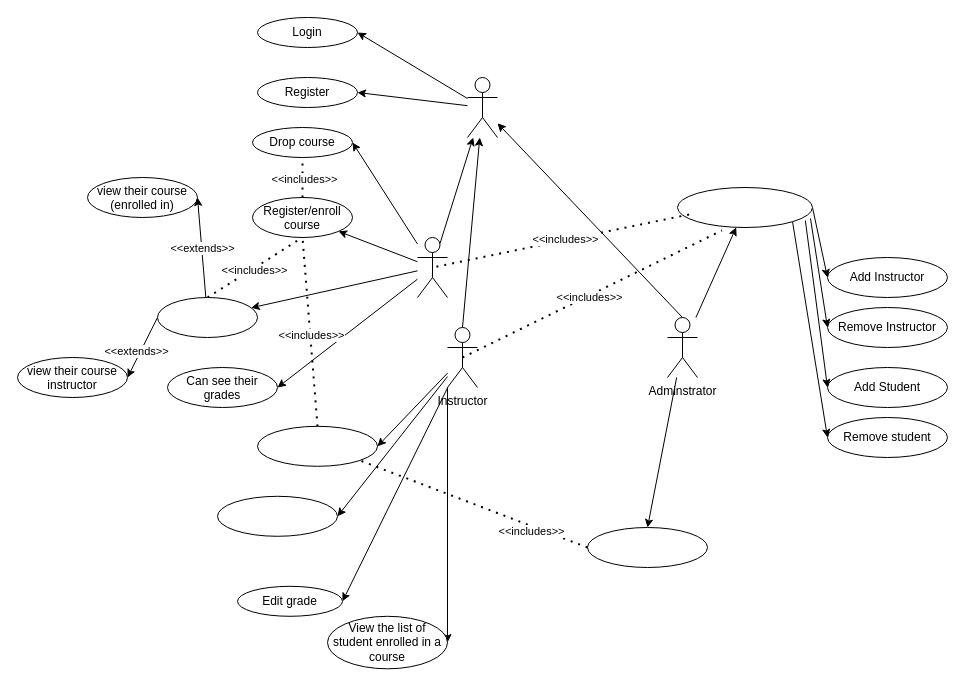
Image size: 965x687. Some labels were removed from this diagram. Here are the shapes that lost their labels. From the top down, the centre of each, then its label:
point 482,107: User
point 744,207: Manage users
point 432,267: Student
point 207,317: View course Detail
point 317,445: Create course
point 277,515: Assign grades to students
point 647,547: Manage Course
